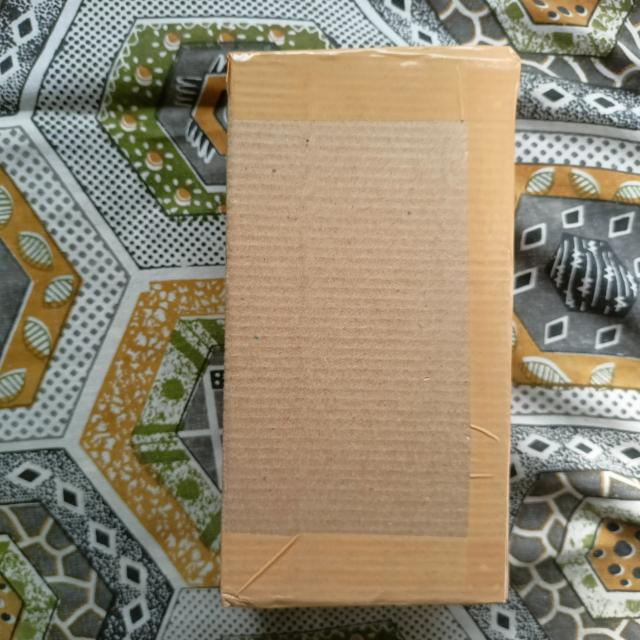box: (198, 46, 522, 613)
